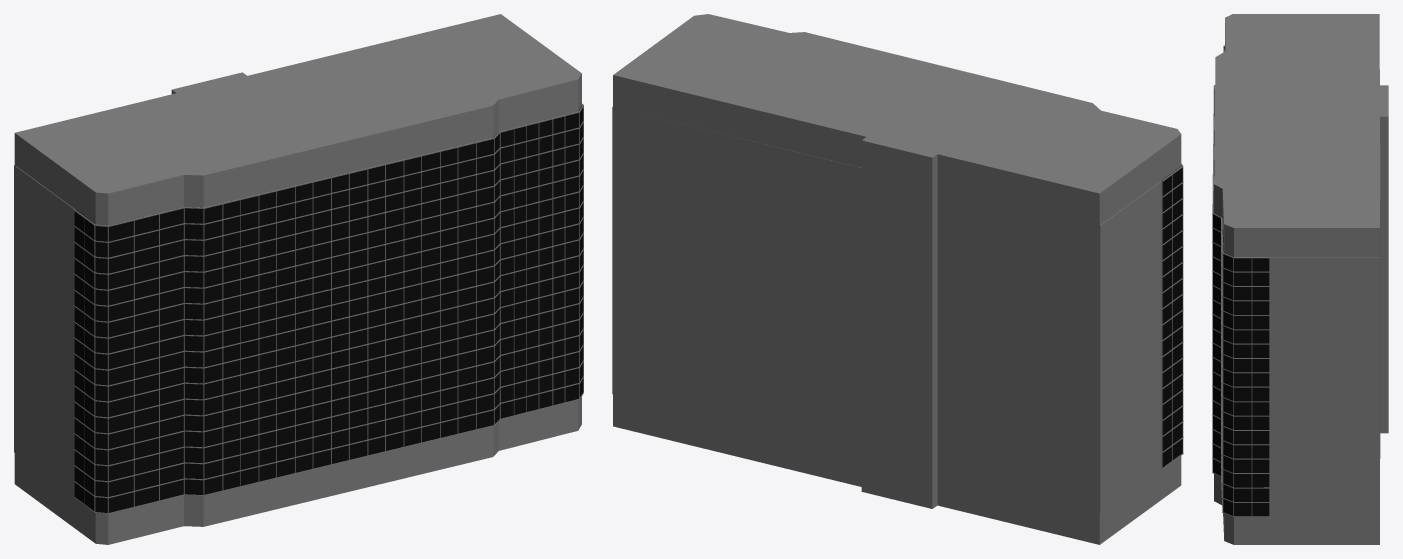
File: BLD_OFFICE.fbx
The picture shows the model from 3 angles, left to right: view 1: azimuth 30°, elevation 25°; view 2: azimuth 150°, elevation 25°; view 3: azimuth 270°, elevation 25°; orthographic projection. The views are drawn at different scales.
Parts seen in each view (by area): view 1: BLD_OFFICE_01, BLD_OFFICE_09, BLD_OFFICE_02, BLD_OFFICE_010, BLD_OFFICE_06; view 2: BLD_OFFICE_06, BLD_OFFICE_09, BLD_OFFICE_010, BLD_OFFICE_01, BLD_OFFICE_02; view 3: BLD_OFFICE_09, BLD_OFFICE_06, BLD_OFFICE_01, BLD_OFFICE_010, BLD_OFFICE_02.
Part boxes in pixels (x1=…): BLD_OFFICE_01: x1=74, y1=106, x2=583, y2=512; BLD_OFFICE_09: x1=14, y1=14, x2=581, y2=225; BLD_OFFICE_02: x1=74, y1=103, x2=583, y2=514; BLD_OFFICE_010: x1=14, y1=397, x2=581, y2=544; BLD_OFFICE_06: x1=14, y1=165, x2=75, y2=495; BLD_OFFICE_06: x1=612, y1=107, x2=1161, y2=512; BLD_OFFICE_09: x1=613, y1=14, x2=1181, y2=225; BLD_OFFICE_010: x1=613, y1=394, x2=1181, y2=544; BLD_OFFICE_01: x1=1162, y1=168, x2=1182, y2=467; BLD_OFFICE_02: x1=1161, y1=163, x2=1183, y2=468; BLD_OFFICE_09: x1=1214, y1=14, x2=1388, y2=256; BLD_OFFICE_06: x1=1270, y1=145, x2=1388, y2=516; BLD_OFFICE_01: x1=1213, y1=47, x2=1269, y2=516; BLD_OFFICE_010: x1=1214, y1=404, x2=1388, y2=544; BLD_OFFICE_02: x1=1212, y1=45, x2=1269, y2=517.
Bounding box in the file's own units: 285 × 98.46 × 195.
13 materials, 2 textured.
